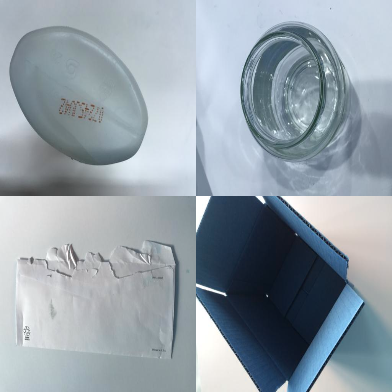cardboard: (196, 196, 364, 392)
glass: (240, 21, 350, 160)
paper: (14, 238, 175, 361)
plastic: (10, 26, 149, 165)
